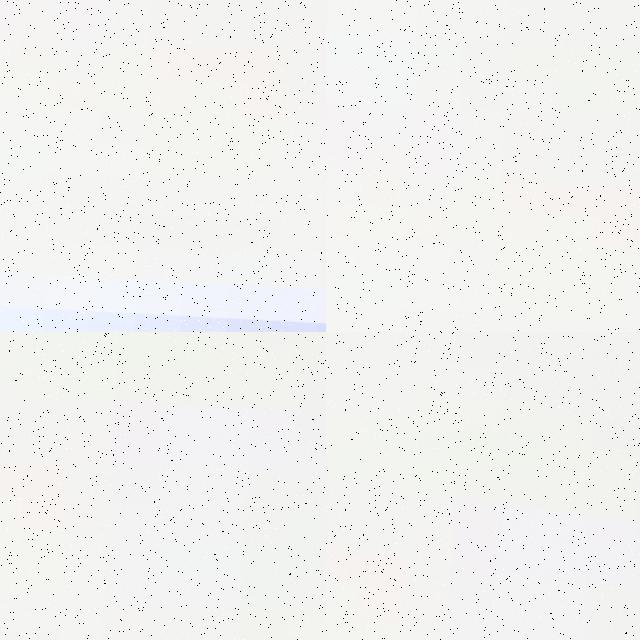drone: (326, 332, 640, 640)
